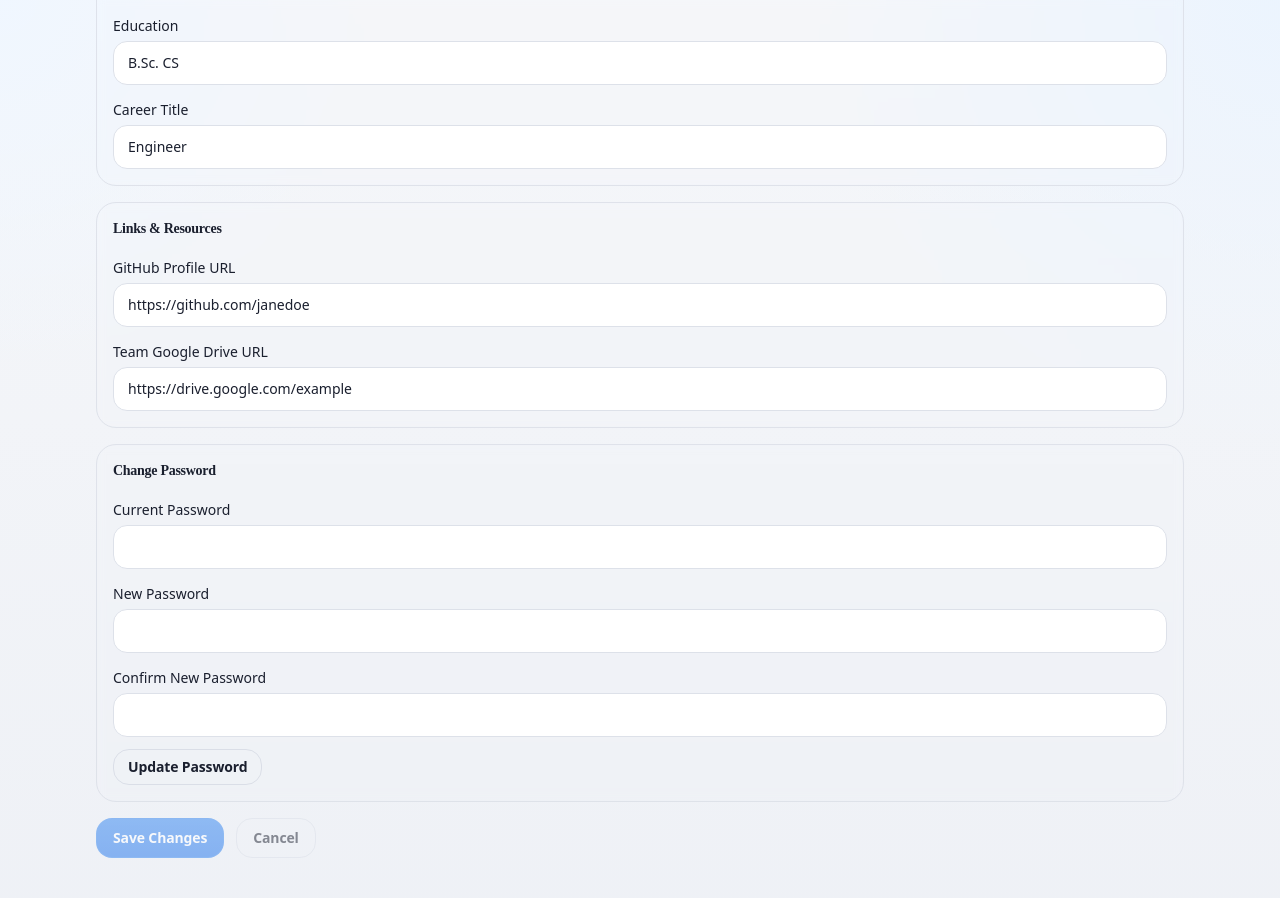
Test: ProfilePage › password validation - too short error
This screenshot has width=1280, height=898.
(page scrolled)
Type "oldpass123" into the password field labelled "Current Password".
click(640, 546); type("oldpass123")  # box 113,524 -> 1167,568
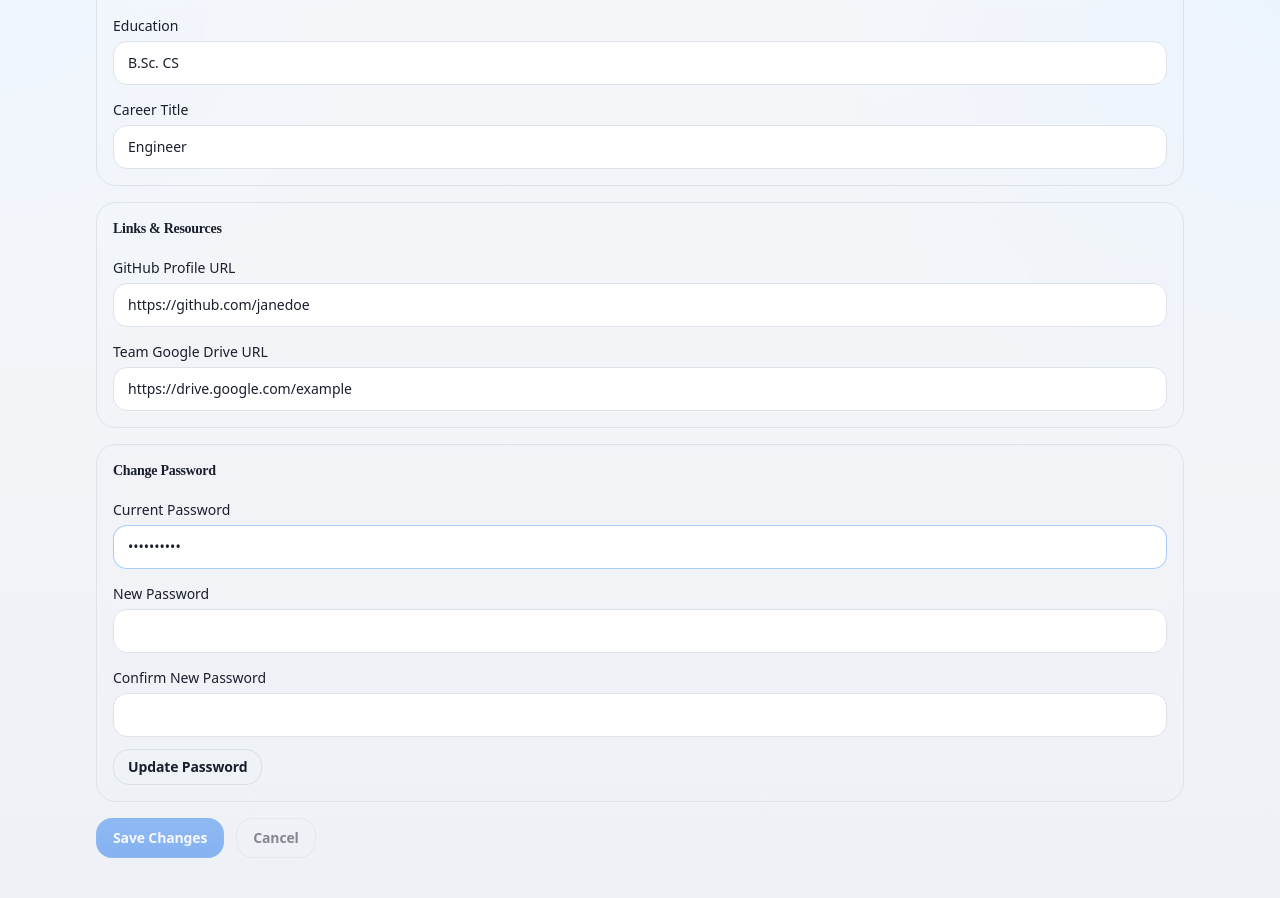
Type "abc" into the password field labelled "New Password".
click(640, 630); type("abc")  # box 113,608 -> 1167,652
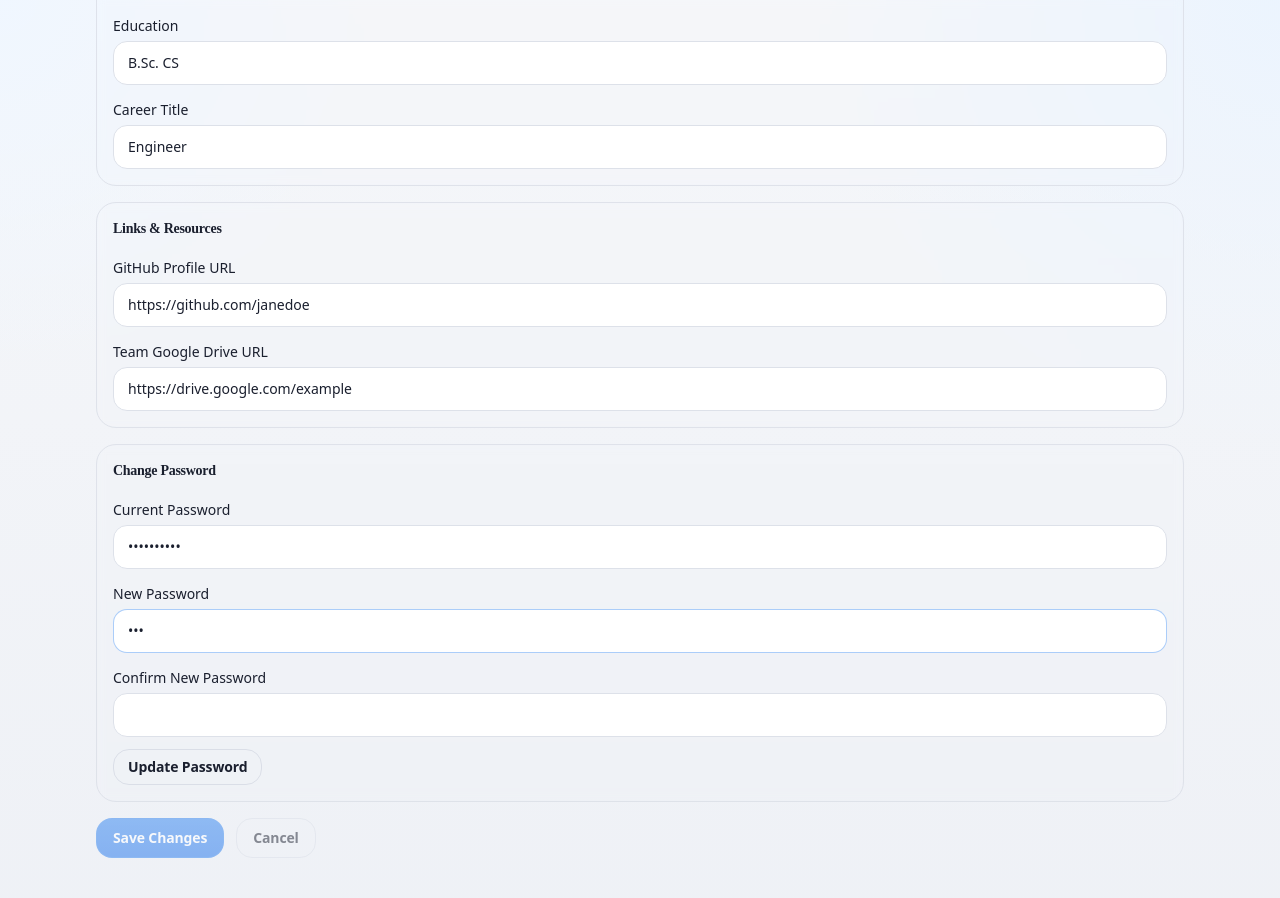
Type "abc" into the password field labelled "Confirm New Password".
click(640, 714); type("abc")  # box 113,692 -> 1167,736
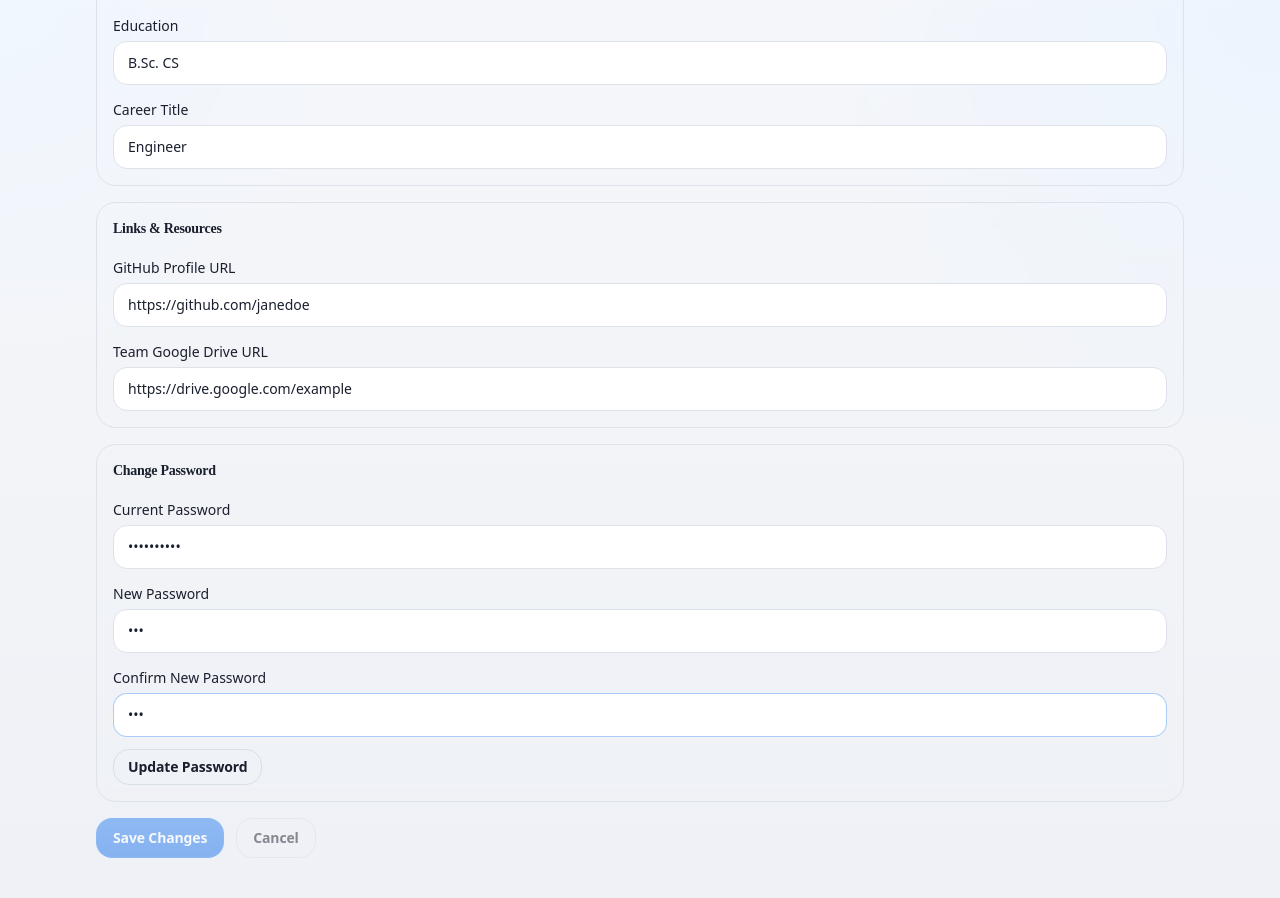
Click the button "Update Password".
click(188, 766)  # box 113,748 -> 262,784
(page scrolled)
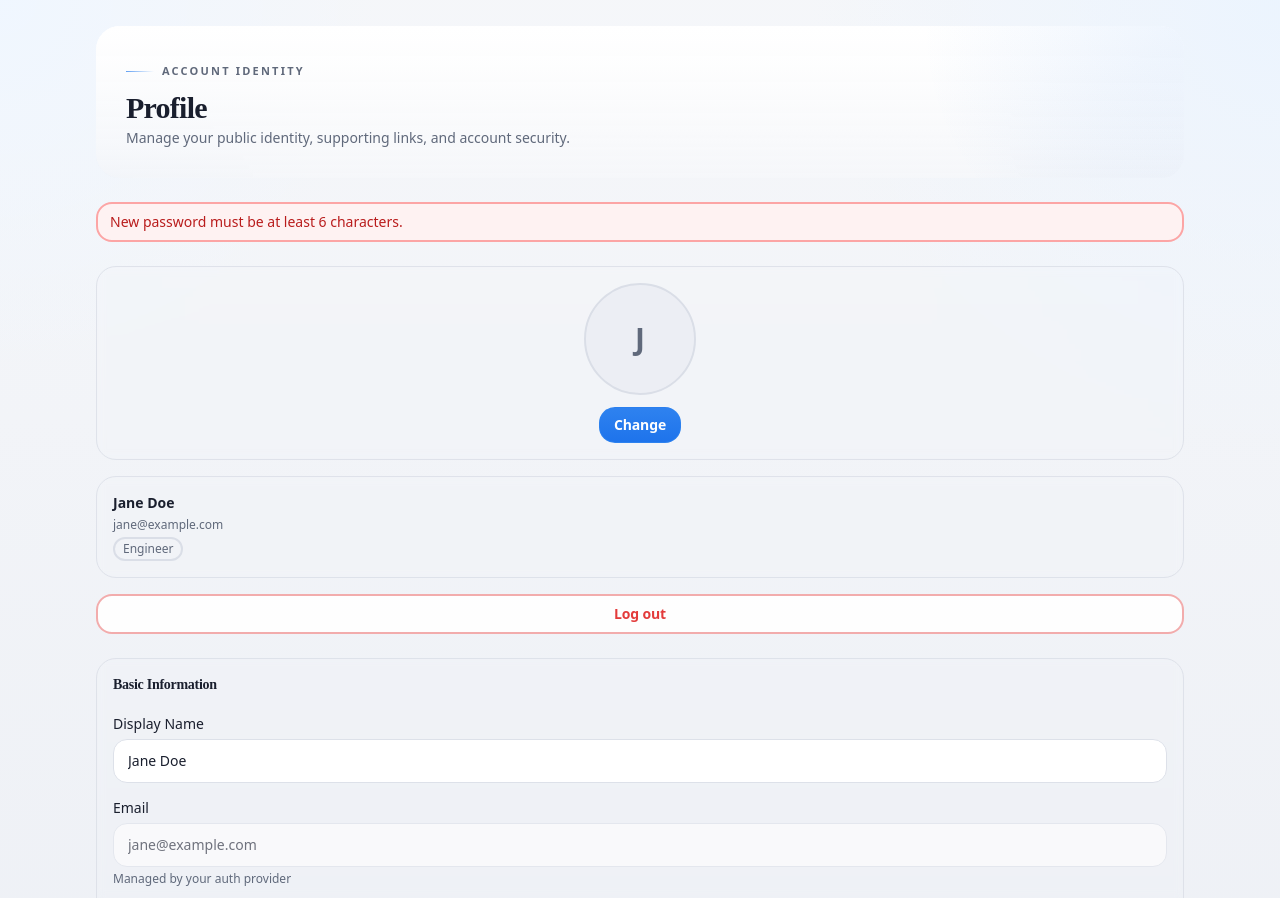
Expected: the message reads "New password must be at least 6 characters.", 110,212 -> 403,230
